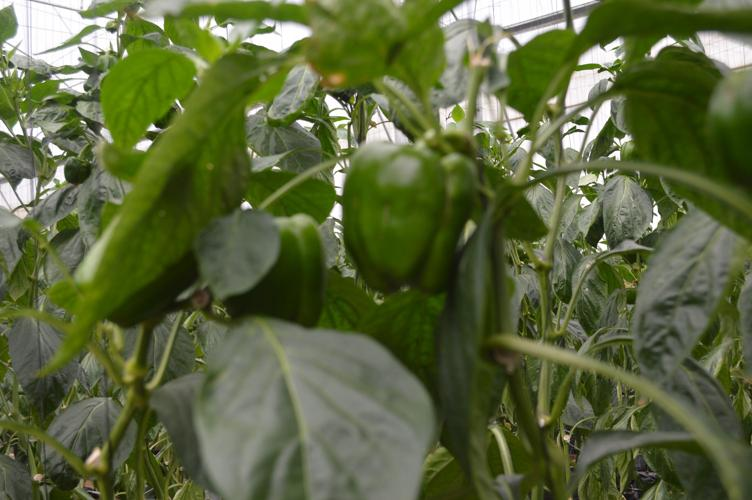BellPepper: (332, 135, 472, 294), (226, 208, 325, 331)
